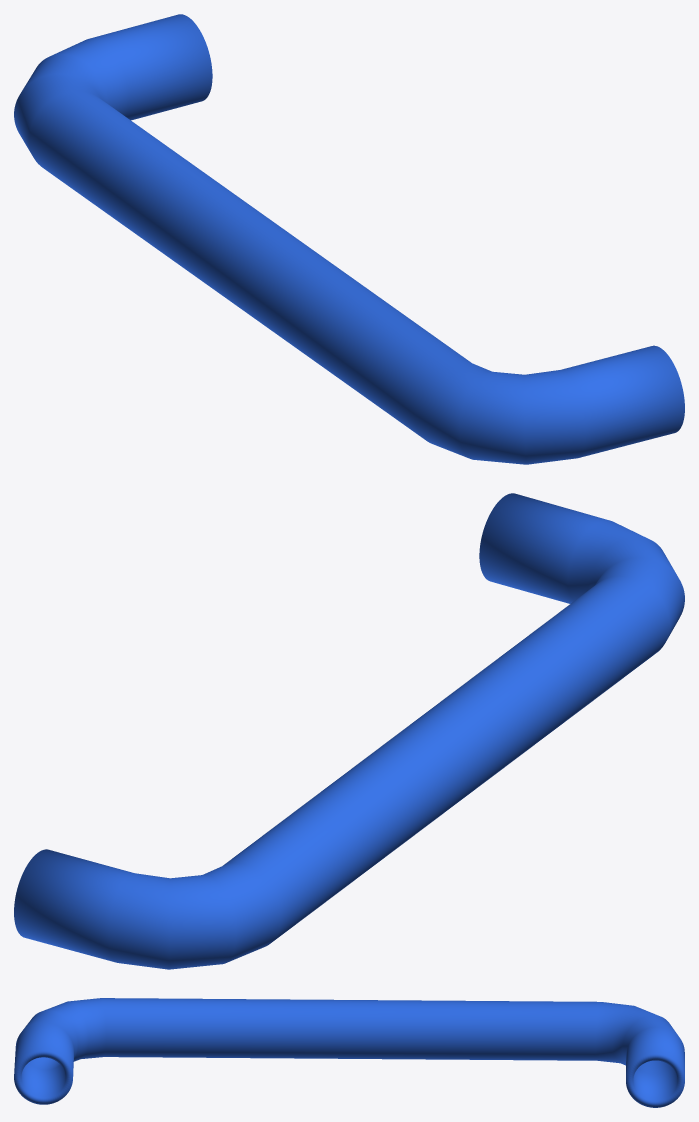
The model's file is selang.fbx.
3 views of the same model, one above another, from view 1: azimuth 30°, elevation 25°; view 2: azimuth 150°, elevation 25°; view 3: azimuth 270°, elevation 25° (orthographic). The views are drawn at different scales.
Parts seen in each view (by area): view 1: Plane; view 2: Plane; view 3: Plane.
Part boxes in pixels (left/top/right/bottom): Plane: left=14, top=14, right=684, bottom=464; Plane: left=14, top=493, right=684, bottom=969; Plane: left=14, top=998, right=684, bottom=1107.
Bounding box in the file's own units: 129 × 54.99 × 545.
